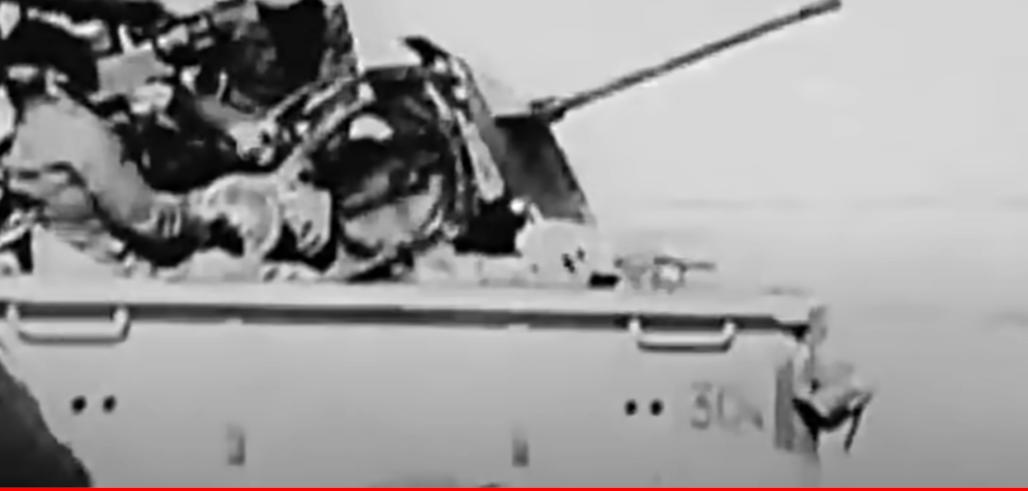MIL_SPG: (0, 0, 867, 486)
